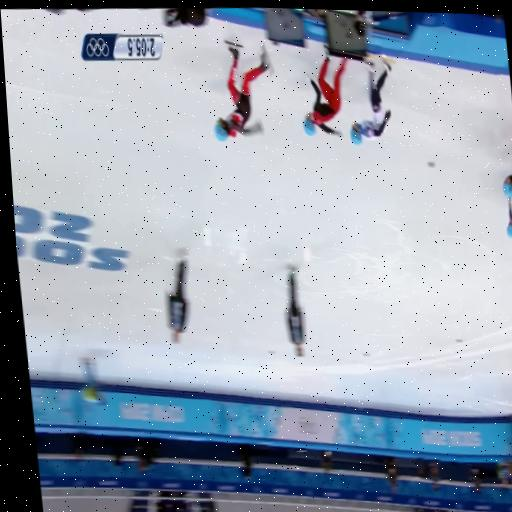Skater: (214, 42, 270, 140), (303, 46, 345, 136), (349, 55, 391, 143), (502, 174, 511, 197), (506, 197, 511, 237)
